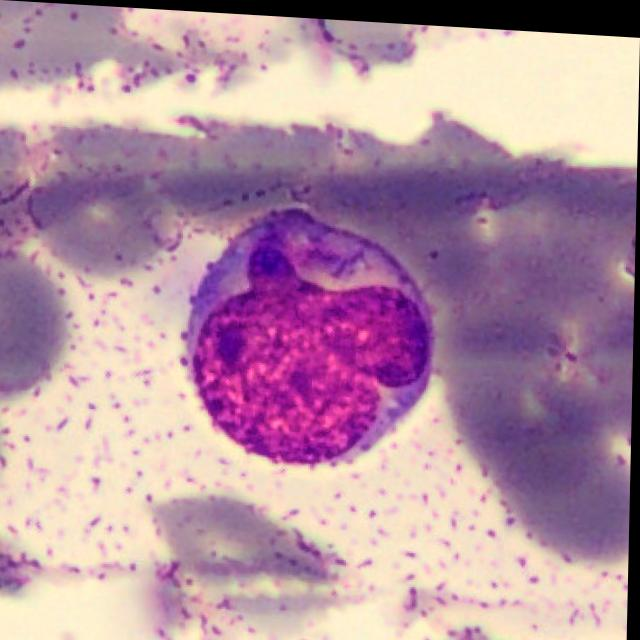Mieloblasto: (186, 202, 437, 461)
